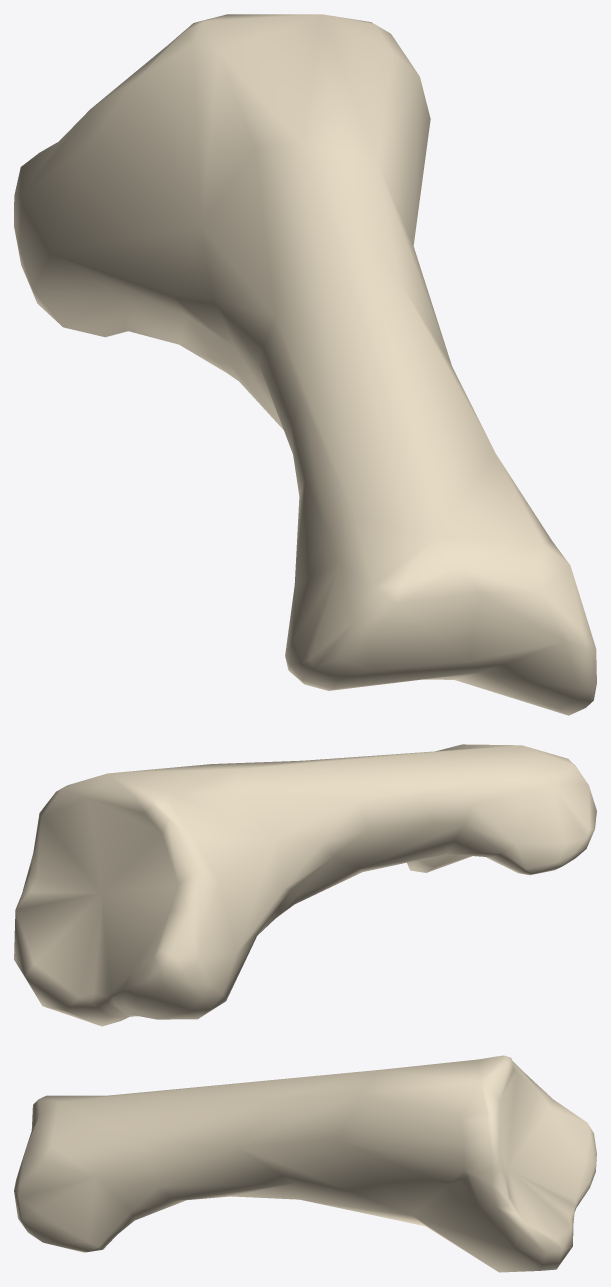
The model's file is proximal-phalanx-of-third-finger-of-foot-r.glb.
3 renders of one model, top to bottom at view 1: azimuth 30°, elevation 25°; view 2: azimuth 150°, elevation 25°; view 3: azimuth 270°, elevation 25°, orthographic. The views are drawn at different scales.
Parts seen in each view (by area): view 1: Proximal phalanx of third finger of foot.r; view 2: Proximal phalanx of third finger of foot.r; view 3: Proximal phalanx of third finger of foot.r.
Boxes of the visible parts, <box> form: Proximal phalanx of third finger of foot.r: <box>14,14,596,715</box>; Proximal phalanx of third finger of foot.r: <box>14,744,596,1026</box>; Proximal phalanx of third finger of foot.r: <box>14,1055,596,1272</box>.
Bounding box in the file's own units: 0.0164 × 0.012 × 0.0302.
